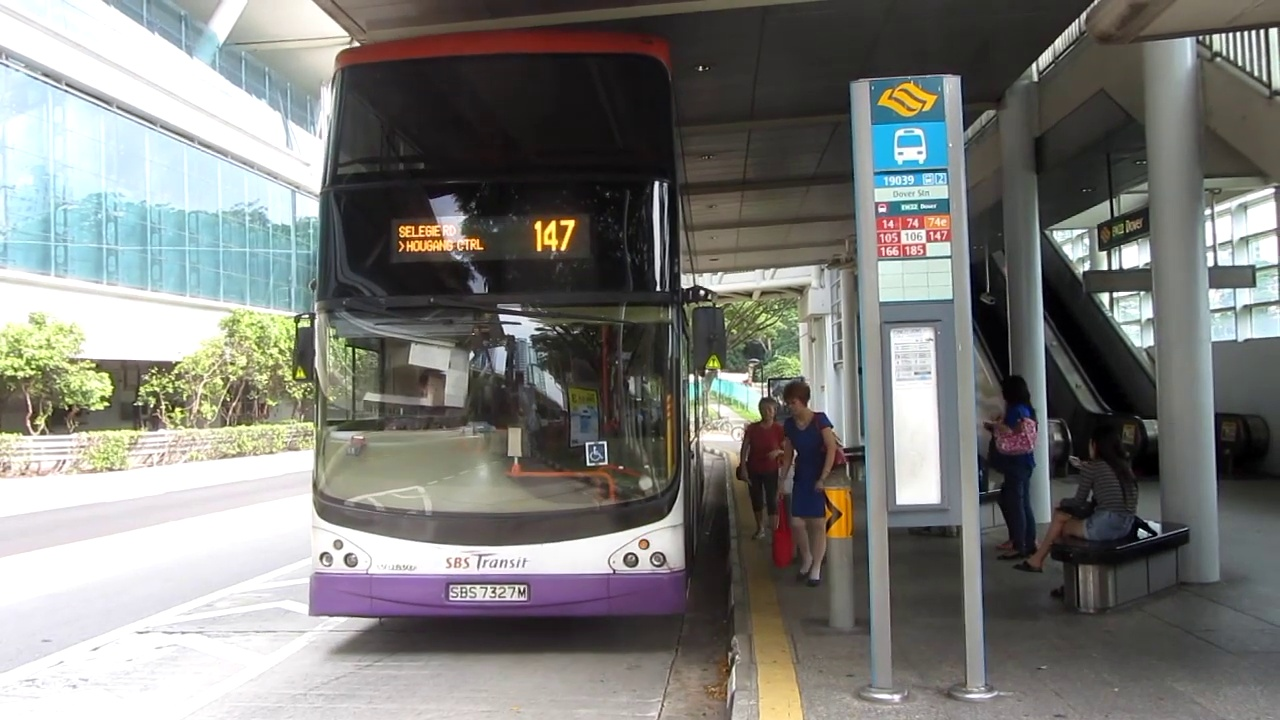bus panel: (387, 213, 594, 266)
